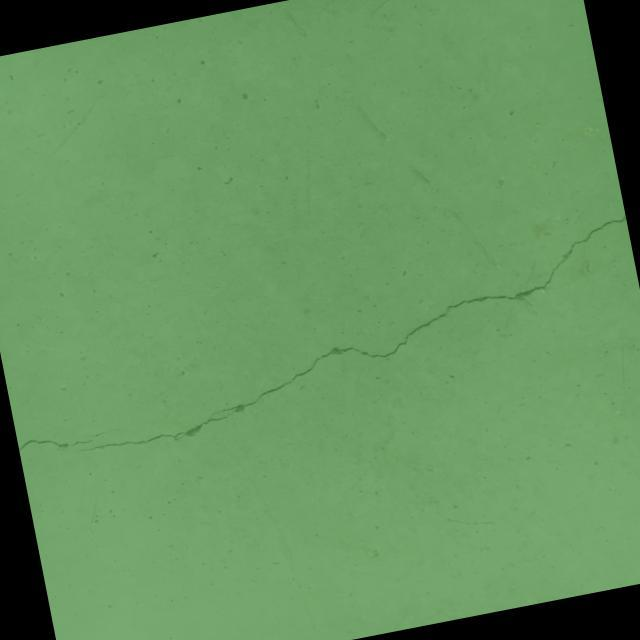crack: (47, 214, 640, 461), (18, 422, 127, 457), (380, 414, 397, 444), (354, 374, 364, 394)
